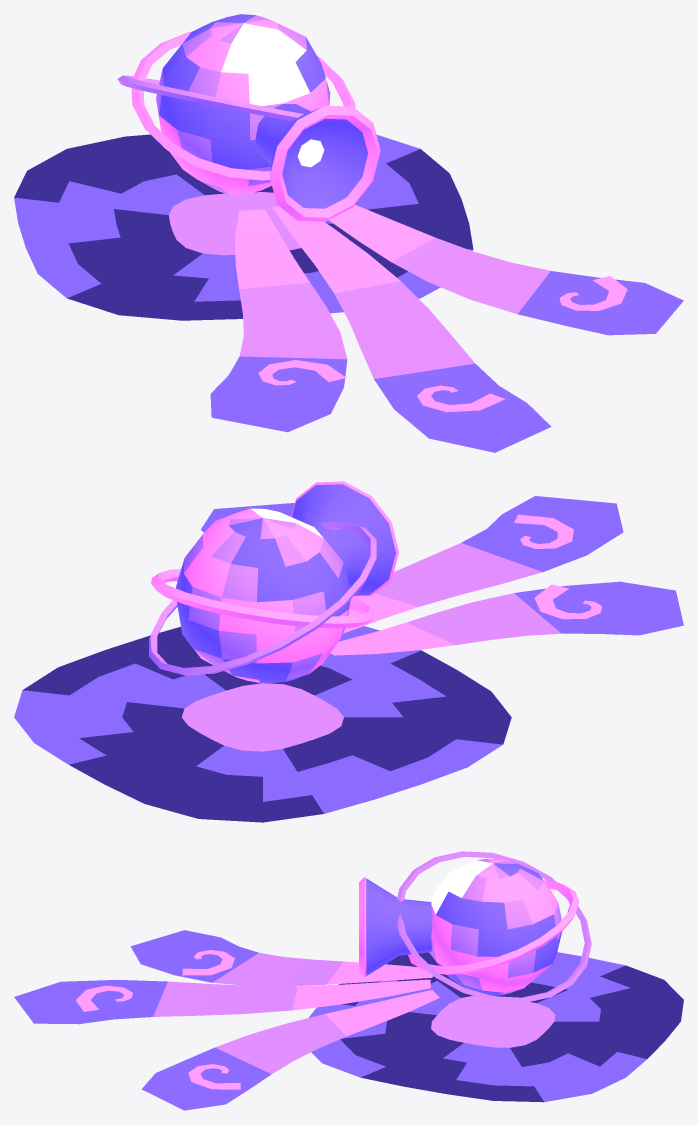
File: dark_energy_gust.glb
3 views of the same model, one above another, from view 1: azimuth 30°, elevation 25°; view 2: azimuth 150°, elevation 25°; view 3: azimuth 270°, elevation 25° (orthographic). The views are drawn at different scales.
Visible parts, largest first — view 1: body, core; view 2: body, core; view 3: body, core.
Part boxes in pixels (x1,y1,x2,y2): body: [14, 134, 683, 452]; core: [117, 14, 380, 221]; body: [14, 496, 683, 822]; core: [149, 481, 398, 682]; body: [14, 930, 683, 1110]; core: [359, 851, 591, 1002].
Bounding box in the file's own units: 211 × 85.55 × 328.
